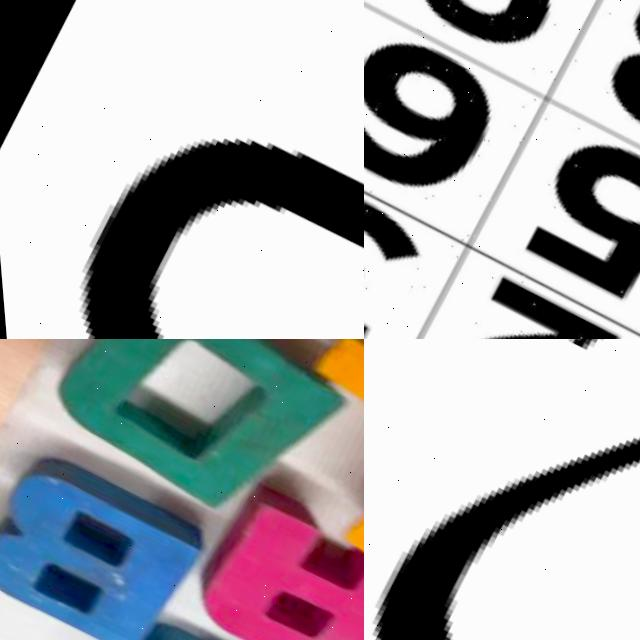2: (364, 339, 640, 640), (416, 263, 625, 339)
3: (364, 160, 433, 339)
5: (498, 117, 640, 326)
6: (364, 13, 517, 232)
8: (575, 0, 640, 184)
9: (380, 0, 596, 83)
A: (165, 479, 364, 640)
B: (0, 434, 203, 640)
D: (28, 339, 364, 568)
L: (223, 339, 364, 640)
P: (73, 141, 364, 339), (83, 597, 325, 640)
